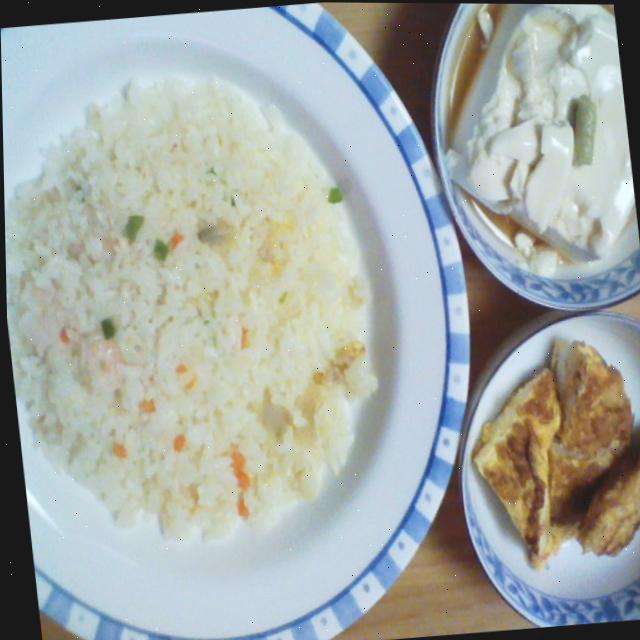米饭主食: (0, 0, 489, 640)
豆腐料理: (435, 3, 640, 307)
鸡蛋料理: (483, 308, 640, 574)
